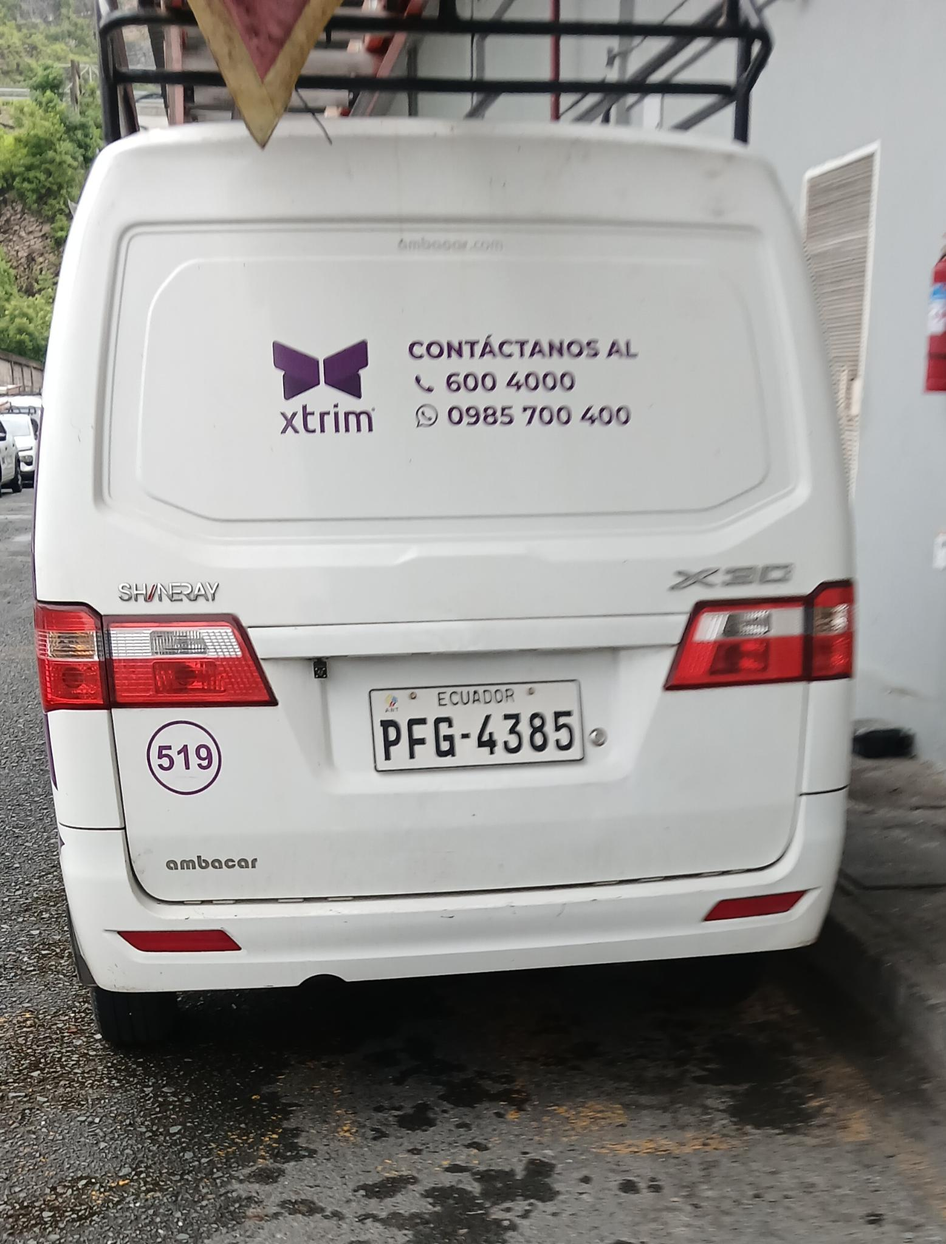license_plate: (368, 682, 590, 771)
